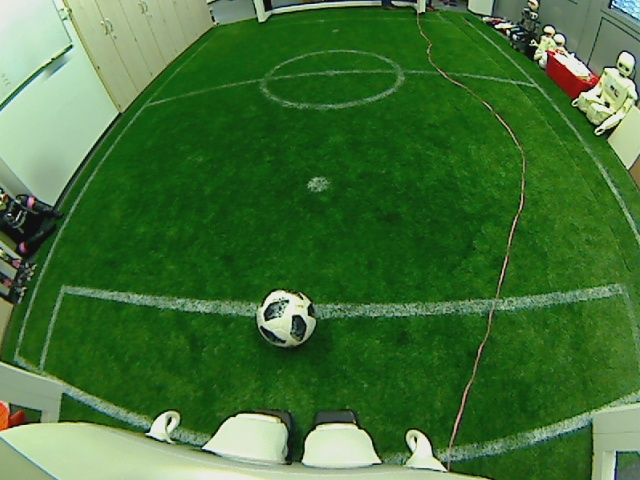ball: (254, 287, 320, 352)
